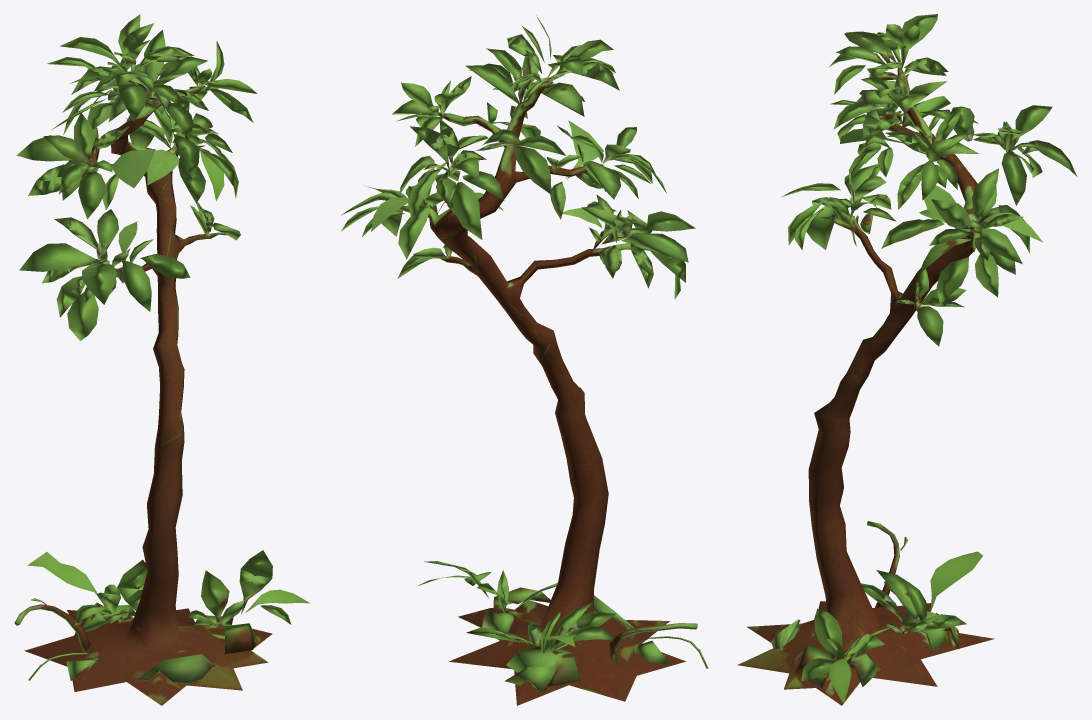
The model's file is tree_young_hi.glb.
3 renders of one model, left to right at view 1: azimuth 30°, elevation 25°; view 2: azimuth 150°, elevation 25°; view 3: azimuth 270°, elevation 25°, orthographic. The views are drawn at different scales.
Bounding box in the file's own units: 0.457 × 0.9536 × 0.4648.
Materials: 1 (1 with a texture image).
